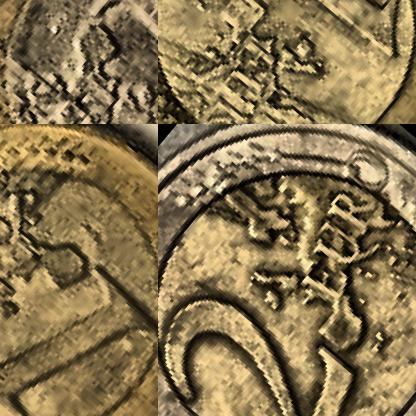coin: (158, 124, 415, 415), (0, 124, 157, 415), (158, 0, 415, 123), (0, 0, 157, 123)
